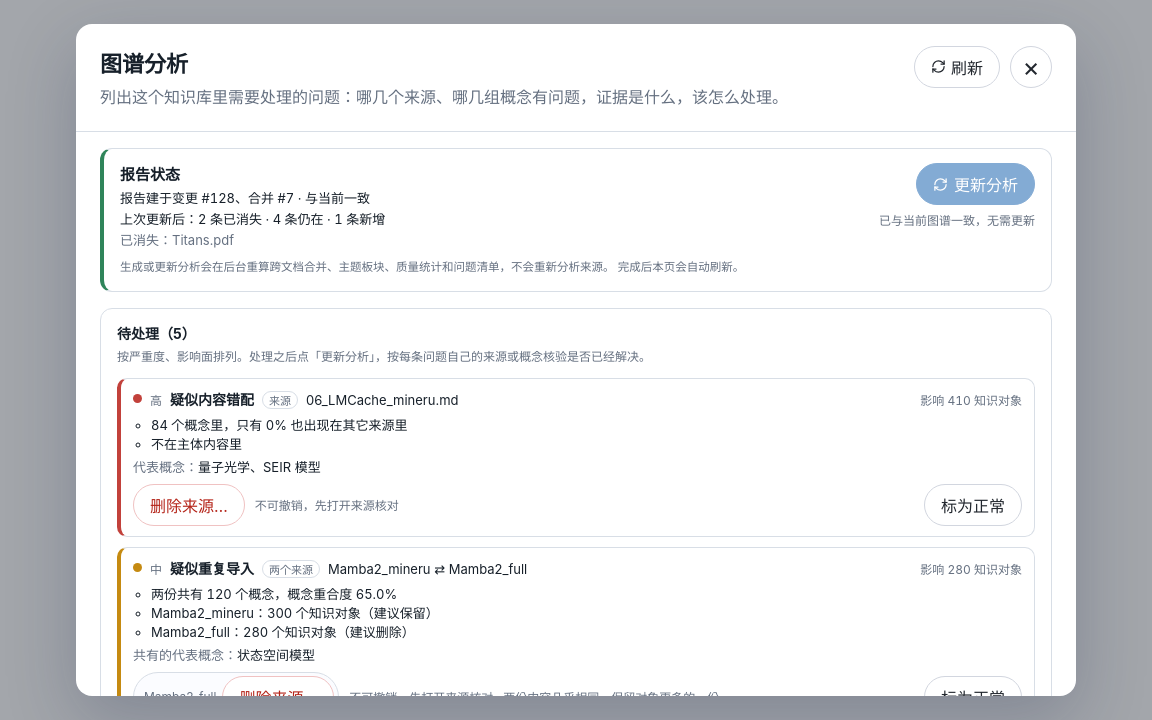
Test case: 删除没成功：失败写在按钮旁
The width and height of the screenshot is (1152, 720).
Click the button "删除来源…" below "疑似内容错配" at (189, 504), box left=133, top=484, right=245, bottom=526
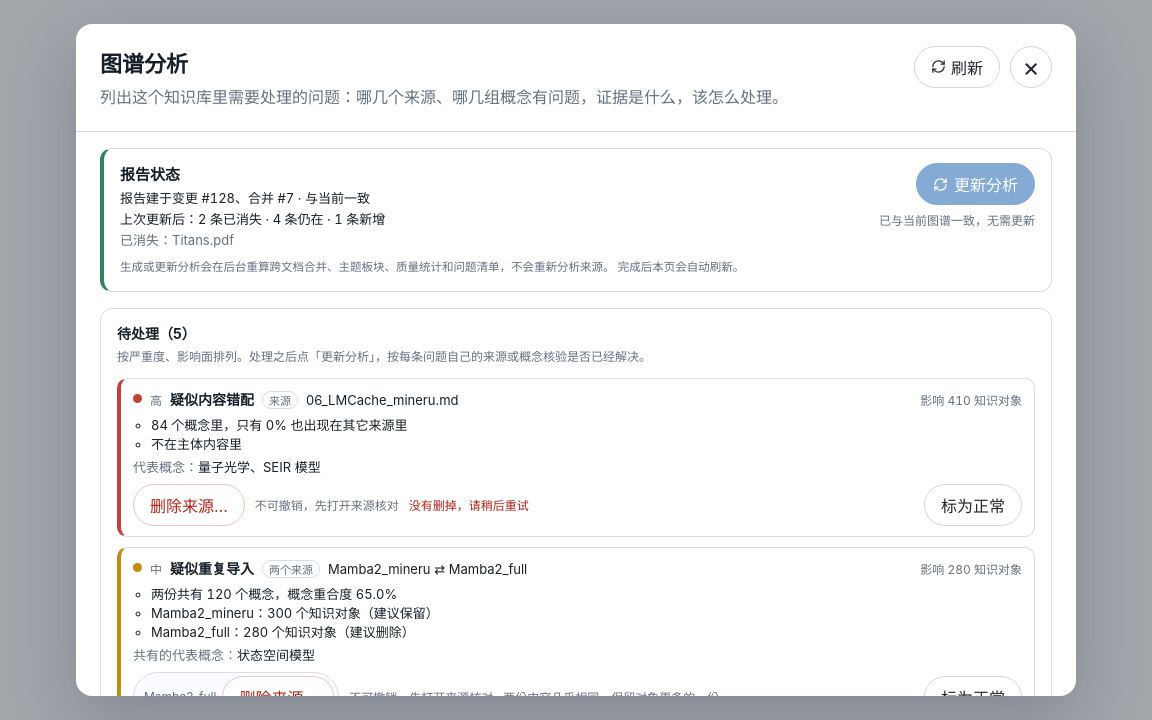
Check: the text "没有删掉，请稍后重试" is shown, box left=409, top=496, right=529, bottom=513
